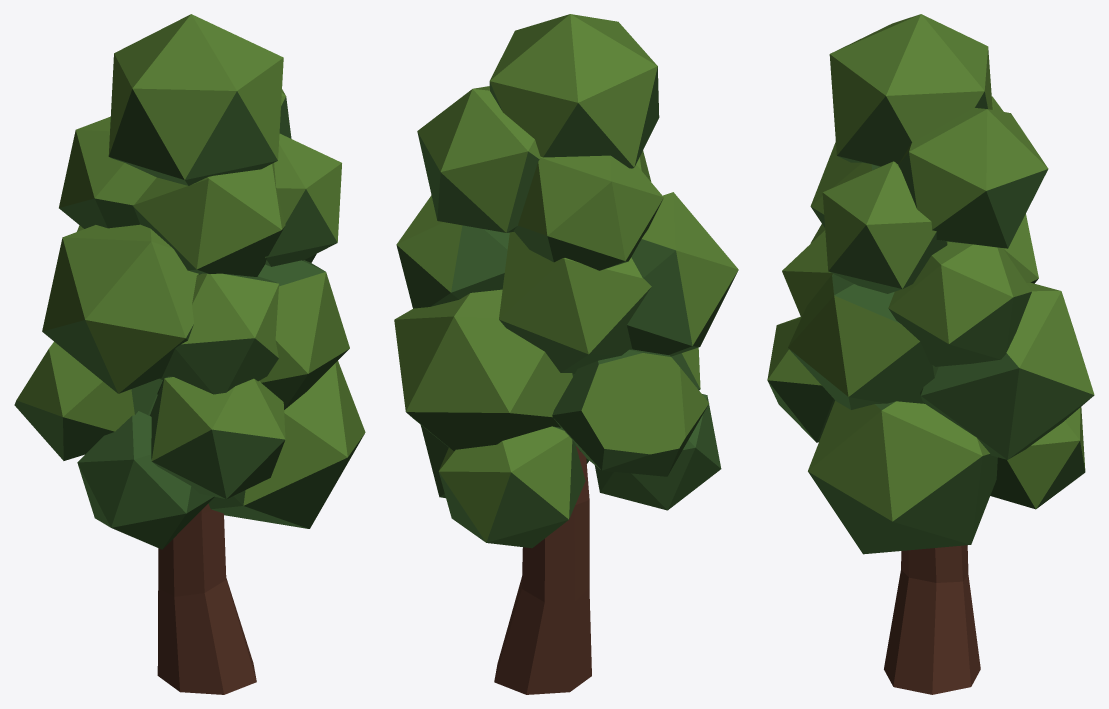
File: tree-fir-02.glb
3 views of the same model, side by side, from view 1: azimuth 30°, elevation 25°; view 2: azimuth 150°, elevation 25°; view 3: azimuth 270°, elevation 25° (orthographic). The views are drawn at different scales.
Parts seen in each view (by area): view 1: TreeFir_02; view 2: TreeFir_02; view 3: TreeFir_02.
Boxes of the visible parts, bbox=[...] form: TreeFir_02: bbox=[14, 14, 365, 694]; TreeFir_02: bbox=[394, 14, 738, 694]; TreeFir_02: bbox=[767, 14, 1094, 694].
Size of what is drawn, in the model's own units: 2.44 by 5.11 by 2.34.
Materials: 1 (1 with a texture image).
